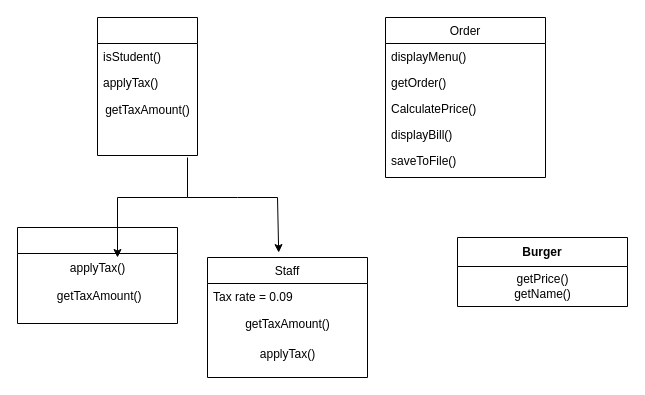
Image size: 645x395. Some labels were removed from this diagram. Each missing label, with the box of its shape:
Customer: (96, 16, 198, 156)
Student: (16, 226, 178, 324)
